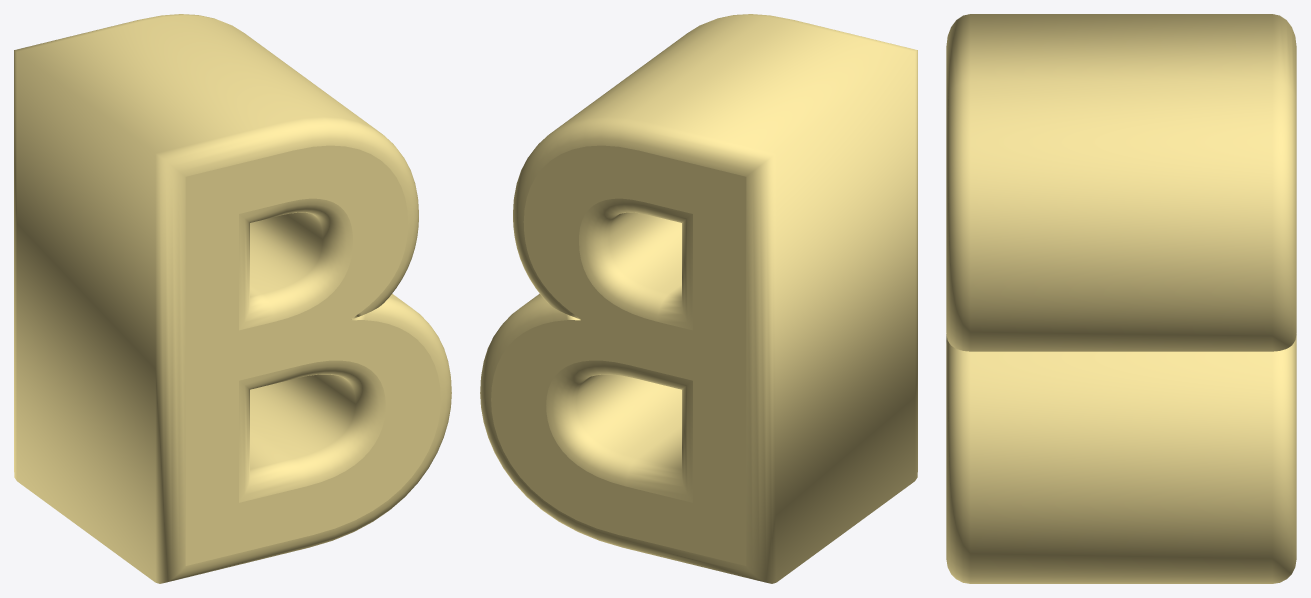
Rendered from letter_B.glb.
3 renders of one model, left to right at view 1: azimuth 30°, elevation 25°; view 2: azimuth 150°, elevation 25°; view 3: azimuth 270°, elevation 25°, orthographic. The views are drawn at different scales.
Parts seen in each view (by area): view 1: Text; view 2: Text; view 3: Text.
Boxes of the visible parts, box(x1,y1,x2,y2) form: Text: box(14, 14, 451, 583); Text: box(480, 14, 917, 583); Text: box(946, 14, 1296, 583).
Bounding box in the file's own units: 0.5381 × 0.752 × 0.51.
